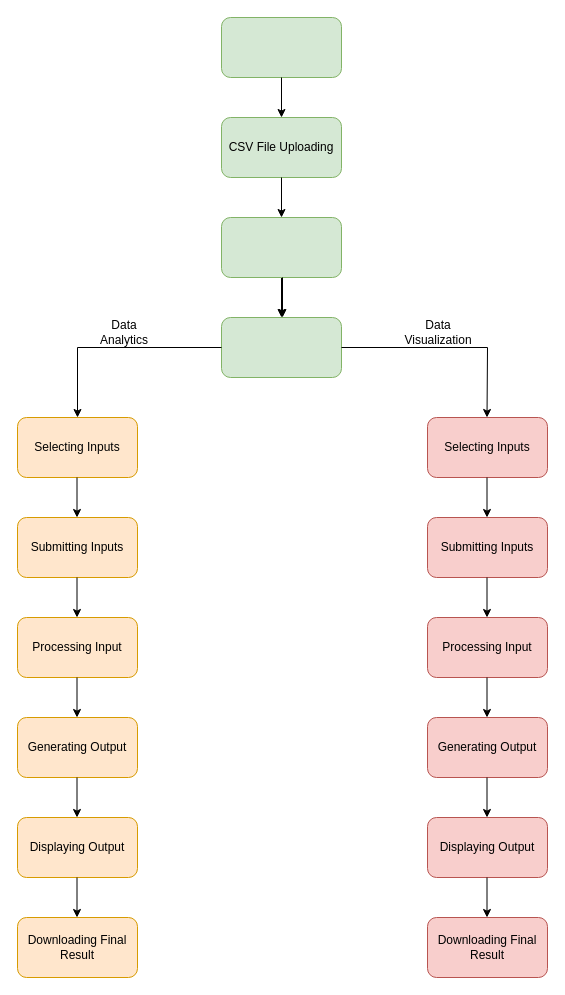
The diagram is 565 pixels wide and 995 high, and some of its shapes have lost their labels. The centre of each missing label's shape, as x and y in pixels:
CSV File Processing: point (281, 247)
Get Started: point (281, 47)
Selecting Operation: point (281, 347)
